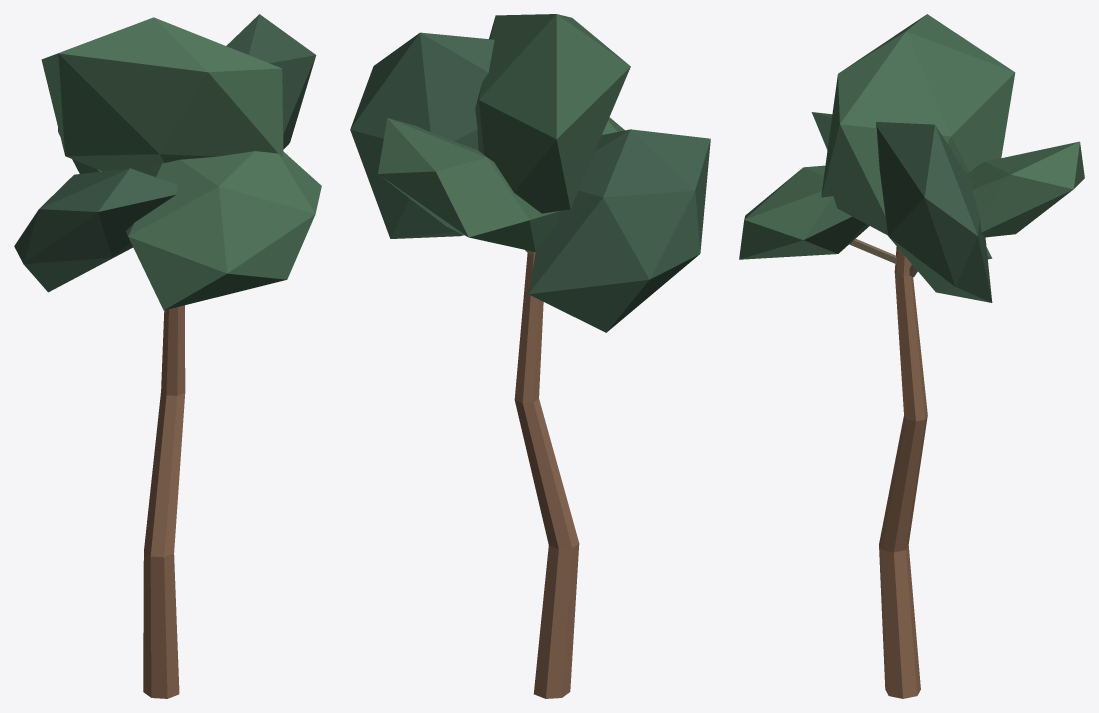
Rendered from v_tree_pine.glb.
3 renders of one model, left to right at view 1: azimuth 30°, elevation 25°; view 2: azimuth 150°, elevation 25°; view 3: azimuth 270°, elevation 25°, orthographic. The views are drawn at different scales.
Visible parts, largest first — view 1: Pine; view 2: Pine; view 3: Pine.
Part boxes in pixels (x1,y1,x2,y2): Pine: (14,14,321,698); Pine: (350,14,710,698); Pine: (739,14,1084,698).
Size of what is drawn, in the model's own units: 4.54 by 9.49 by 4.53.
